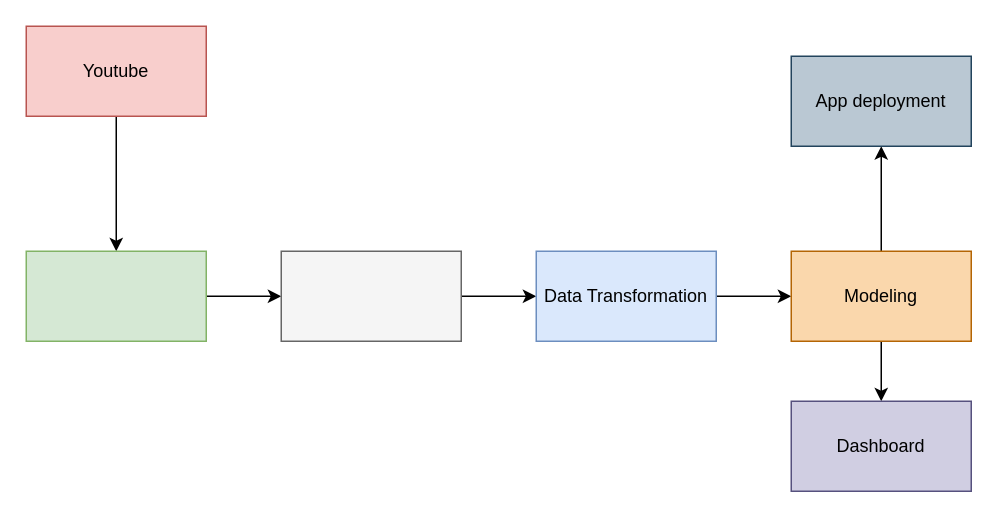
Some shapes in this 998 by 518 pixel diagram are drawn without their labels. Each missing label, with the box of its shape:
EDA: (280, 250, 461, 341)
web Scrapper: (25, 250, 206, 341)
